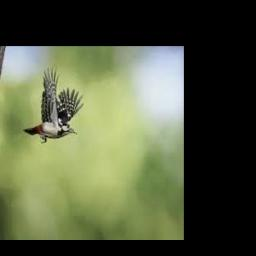Woodpecker: (24, 64, 85, 143)
